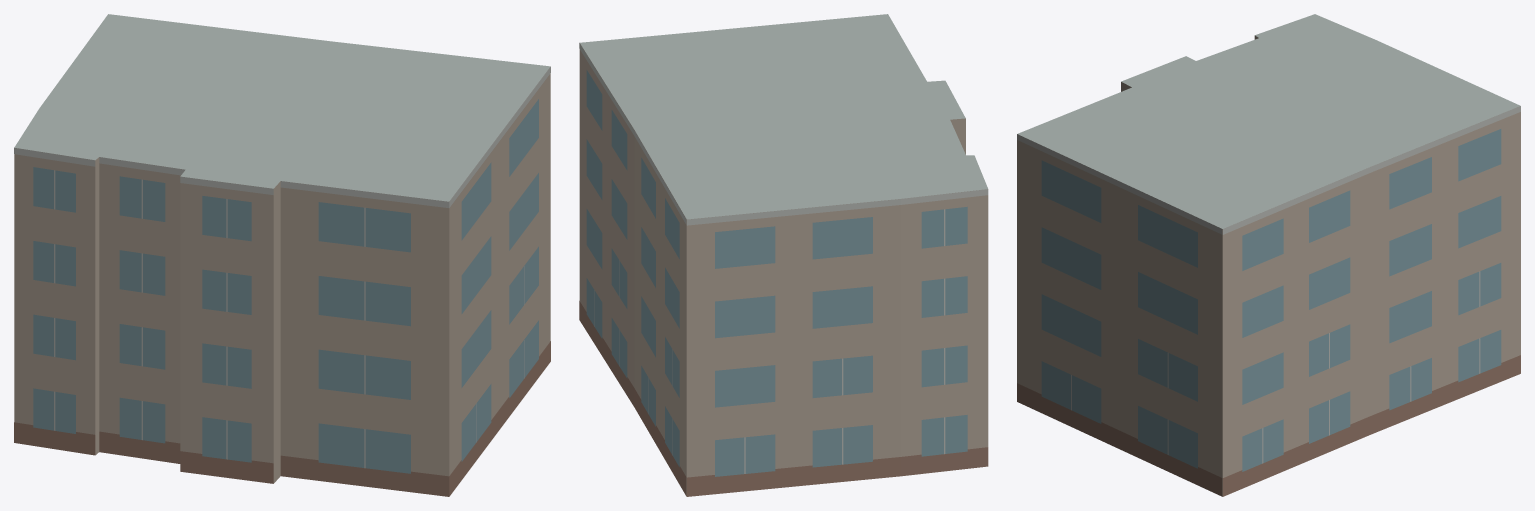
The model's file is survey-upis-32778473.glb.
3 renders of one model, left to right at view 1: azimuth 30°, elevation 25°; view 2: azimuth 150°, elevation 25°; view 3: azimuth 270°, elevation 25°, orthographic. The views are drawn at different scales.
Visible parts, largest first — view 1: survey-upis-32778473.tmp; view 2: survey-upis-32778473.tmp; view 3: survey-upis-32778473.tmp.
Boxes of the visible parts, bbox=[...] form: survey-upis-32778473.tmp: bbox=[14, 14, 550, 496]; survey-upis-32778473.tmp: bbox=[579, 14, 988, 496]; survey-upis-32778473.tmp: bbox=[1017, 14, 1520, 496].
Size of the model in its own units: 19.13 by 11.1 by 18.93.
